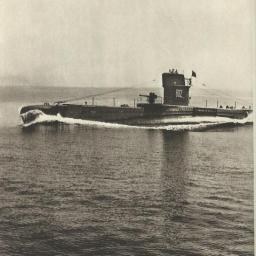submarine: (21, 66, 256, 128)
